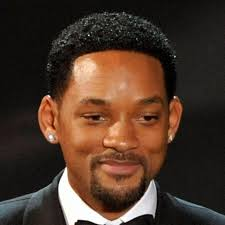black_male: (62, 68, 174, 199)
